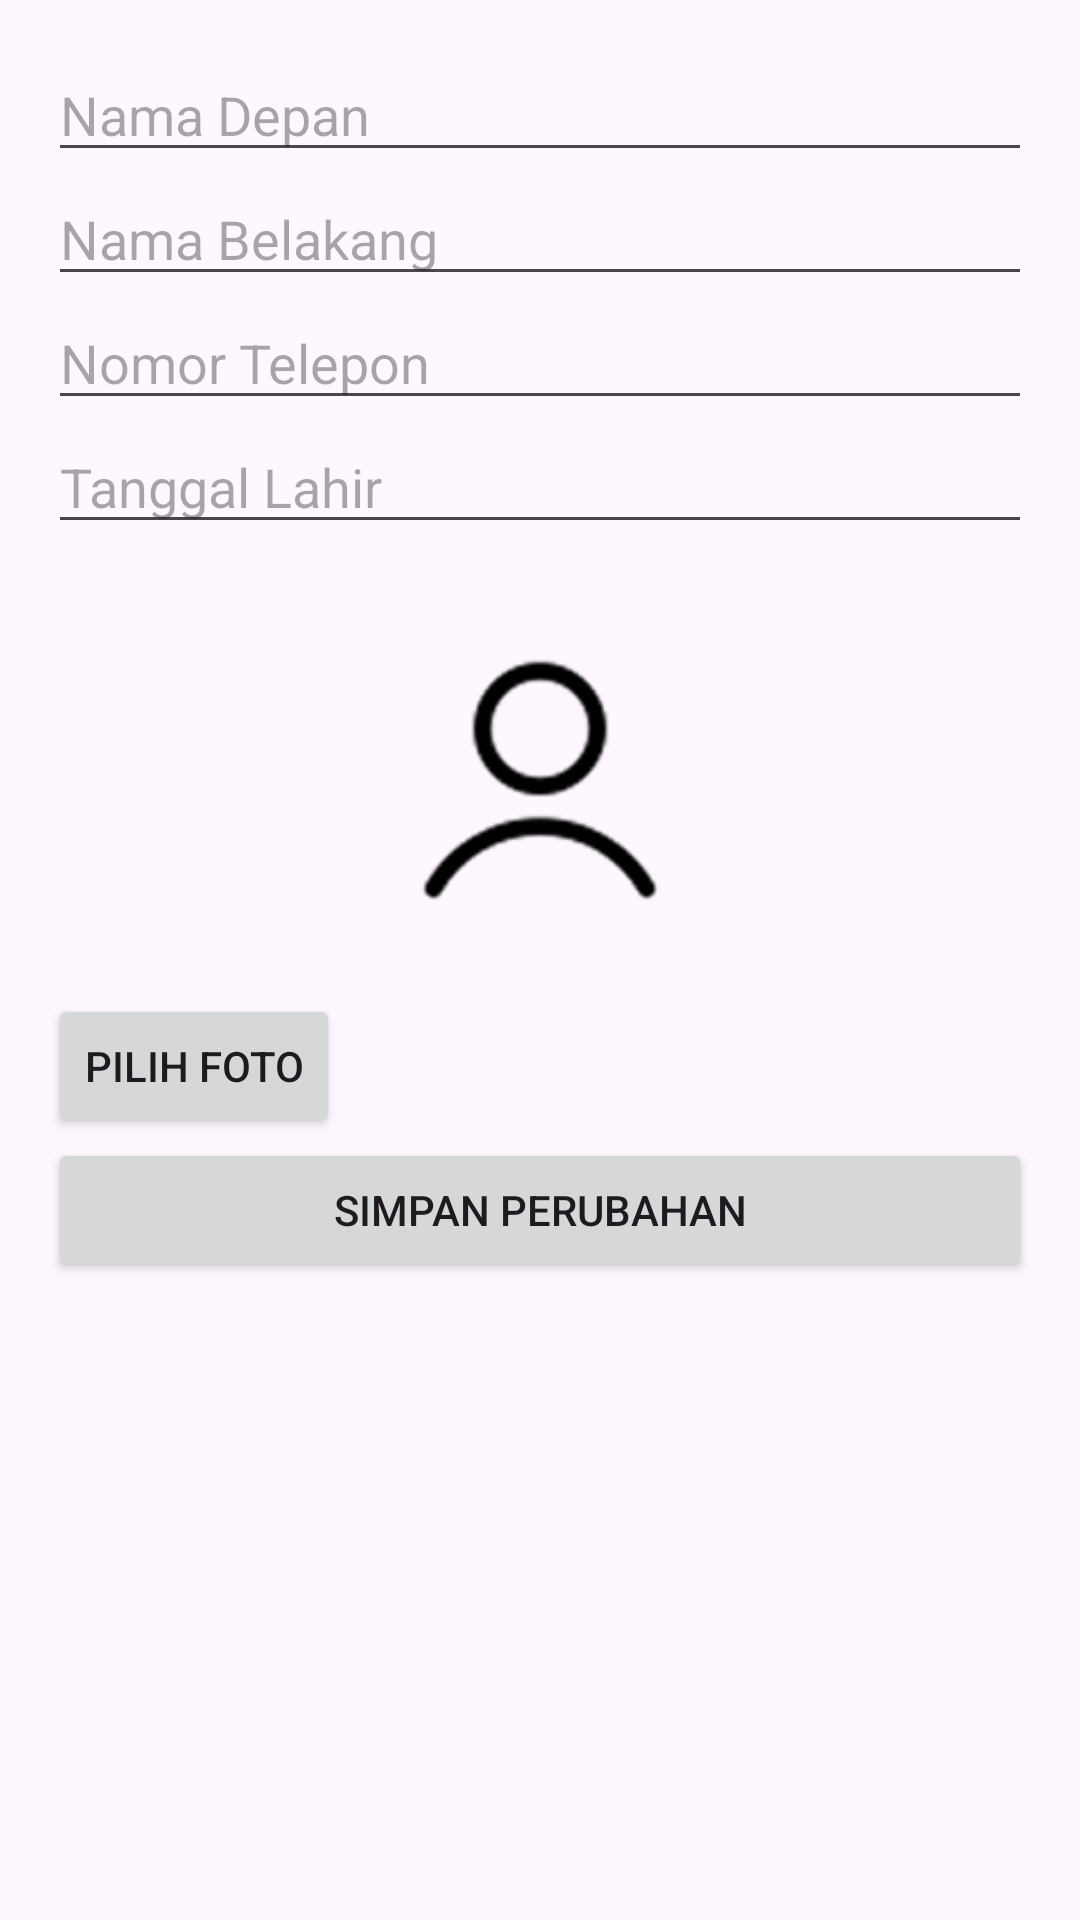

Icons on this 1080*1920 Android screen, each with the point to tap as (x,y):
profil: (540,779)
